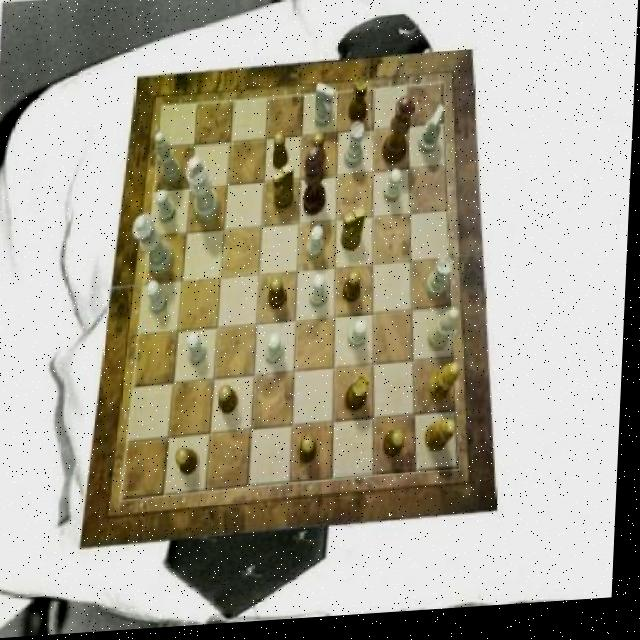bishop: (432, 367, 464, 406), (429, 426, 461, 460)
black-bishop: (304, 150, 330, 222)
black-king: (273, 167, 297, 214), (344, 212, 369, 256)
black-knight: (310, 135, 329, 173), (273, 135, 291, 174), (180, 450, 204, 479), (388, 435, 411, 464), (222, 388, 243, 418), (346, 274, 364, 309), (270, 281, 289, 314), (302, 440, 320, 468)
black-pawn: (384, 103, 417, 172)
black-queen: (350, 81, 369, 129), (349, 381, 373, 418)
black-rook: (155, 135, 185, 189), (431, 313, 463, 357)
white-bishop: (185, 157, 223, 227)
white-king: (420, 110, 446, 161), (315, 87, 336, 132)
white-knight: (150, 281, 171, 317), (158, 192, 179, 228), (190, 333, 211, 368), (313, 277, 332, 313), (309, 230, 327, 265), (386, 174, 404, 209), (268, 337, 287, 370), (352, 325, 370, 353)
white-pawn: (133, 215, 177, 281)
white-queen: (427, 263, 455, 305), (346, 127, 366, 174)
